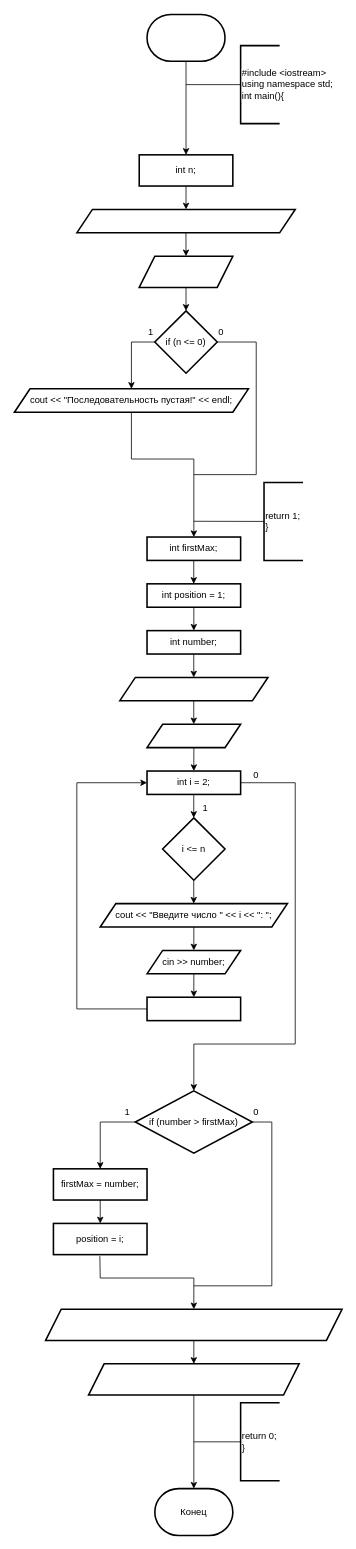
This 356x1549 diagram has some shape labels left out. The centre of each missing label's shape, as x and y in pixels:
cin >> firstMax;: point (193, 735)
cin >> n;: point (185, 271)
cout << "Введите количество элементов: ";: point (186, 220)
cout << "Введите число 1: ": point (193, 688)
cout << "Его позиция: " << position << endl;: point (193, 1379)
cout << "Первый максимальный элемент: " << firstMax << endl;: point (193, 1324)
i++: point (193, 1008)
Начало: point (185, 37)
